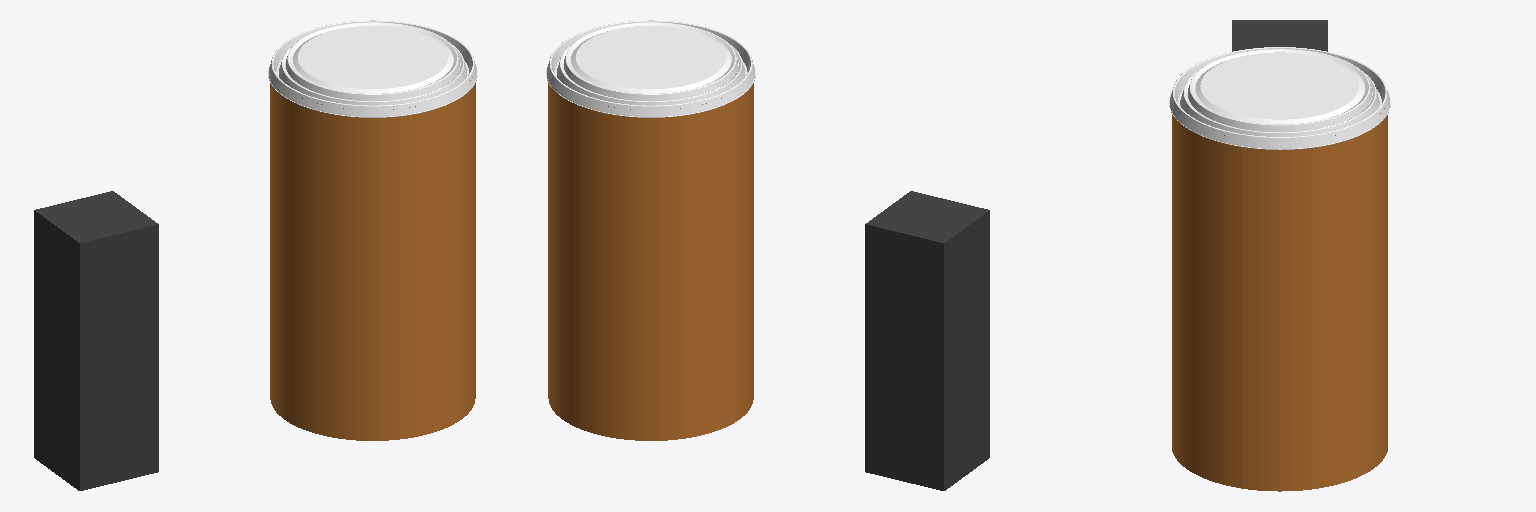
URDF robot description (LWR):
<?xml version="1.0" ?>
<!-- =================================================================================== -->
<!-- |    This document was autogenerated by xacro from seal_twisting_setup.urdf.xacro | -->
<!-- |    EDITING THIS FILE BY HAND IS NOT RECOMMENDED                                 | -->
<!-- =================================================================================== -->
<robot name="LWR" xmlns:controller="http://playerstage.sourceforge.net/gazebo/xmlschema/#controller" xmlns:interface="http://playerstage.sourceforge.net/gazebo/xmlschema/#interface" xmlns:sensor="http://playerstage.sourceforge.net/gazebo/xmlschema/#sensor" xmlns:xacro="http://www.ros.org/wiki/xacro">
  <!--
     Little helper macro to define the inertia matrix needed
     for links.
     -->
  <!-- length is along the y-axis! -->
  <!-- right is either 1 (for right arm) or -1 (for left arm) -->
  <material name="DarkGrey">
    <color rgba="0.3 0.3 0.3 1.0"/>
  </material>
  <material name="Black">
    <color rgba="0 0 0 1.0"/>
  </material>
  <material name="Orange">
    <color rgba="1.0 0.487 0 1.0"/>
  </material>
  <material name="Silver">
    <color rgba="1.0 1.0 1.0 1.0"/>
  </material>
  <material name="Grey">
    <color rgba="0.7 0.7 0.7 1.0"/>
  </material>
  <material name="Blue">
    <color rgba="0.0 0.0 0.8 1.0"/>
  </material>
  <material name="HandGray">
    <color rgba="0.953 0.996 0.694 1.0"/>
  </material>
  <material name="SickBlue">
    <color rgba="0.3058 0.5921 0.7294 1.0"/>
  </material>
  <material name="Wheat">
    <color rgba="0.8039 0.5215 0.2470 1.0"/>
  </material>
  <!--
     Little helper macro to define the inertia matrix needed
     for links.
     -->
  <!-- length is along the y-axis! -->
  <!--   <property name="alpha" value="{M_PI/2}"/> -->
  <!--   <property name="R" value="0.5"/> -->
  <link name="world"/>
  <joint name="world_lwr_arm_base_joint" type="fixed">
    <origin rpy="0 0 0" xyz="-0.7 0 0.6"/>
    <parent link="world"/>
    <child link="calib_lwr_arm_base_link"/>
  </joint>
  <link name="calib_lwr_arm_base_link">
    <inertial>
      <mass value="2.0"/>
      <origin rpy="0 0 0" xyz="0 0 0.055"/>
      <inertia ixx="0.00381666666667" ixy="0" ixz="0" iyy="0.0036" iyz="0" izz="0.00381666666667"/>
    </inertial>
    <visual>
      <origin rpy="0 0 0" xyz="0 0 0"/>
      <geometry>
        <mesh filename="package://kuka_lwr_description/meshes/arm/arm_base.stl"/>
      </geometry>
      <material name="Orange"/>
    </visual>
    <collision>
      <origin rpy="0 0 0" xyz="0 0 0"/>
      <geometry>
        <mesh filename="package://kuka_lwr_description/meshes/arm/convex/arm_base_convex.stl"/>
      </geometry>
    </collision>
  </link>
  <gazebo reference="calib_lwr_arm_base_link">
    <material value="kuka-lwr.material"/>
  </gazebo>
  <joint name="lwr_arm_joint_0" type="revolute">
    <origin rpy="0 0 0" xyz="0 0 0.11"/>
    <axis xyz="0 0 1"/>
    <limit effort="204" lower="-2.96705972839" upper="2.96705972839" velocity="1.91986217719"/>
    <safety_controller k_position="100" k_velocity="2" soft_lower_limit="-2.93215314335" soft_upper_limit="2.93215314335"/>
    <dynamics damping="0.1"/>
    <parent link="calib_lwr_arm_base_link"/>
    <child link="lwr_arm_link_1"/>
  </joint>
  <link name="lwr_arm_link_1">
    <inertial>
      <mass value="2.0"/>
      <origin rpy="0 0 0" xyz="0 0 0.130"/>
      <inertia ixx="0.0136666666667" ixy="0" ixz="0" iyy="0.003" iyz="0" izz="0.0118666666667"/>
    </inertial>
    <visual>
      <origin rpy="0 0 3.14159265359" xyz="0 0 0"/>
      <geometry>
        <mesh filename="package://kuka_lwr_description/meshes/arm/arm_segment_a.stl"/>
      </geometry>
      <material name="Orange"/>
    </visual>
    <collision>
      <origin rpy="0 0 3.14159265359" xyz="0 0 0"/>
      <geometry>
        <mesh filename="package://kuka_lwr_description/meshes/arm/convex/arm_segment_a_convex.stl"/>
      </geometry>
    </collision>
  </link>
  <gazebo reference="lwr_arm_link_1">
    <material value="kuka-lwr.material"/>
  </gazebo>
  <transmission name="lwr_arm_trans_0" type="pr2_mechanism_model/SimpleTransmission">
    <actuator name="lwr_arm_motor_0"/>
    <joint name="lwr_arm_joint_0"/>
    <mechanicalReduction>1.0</mechanicalReduction>
  </transmission>
  <joint name="lwr_arm_joint_1" type="revolute">
    <origin rpy="0 0 0" xyz="0 0 0.20"/>
    <axis xyz="0 -1 0"/>
    <limit effort="306" lower="-2.09439510239" upper="2.09439510239" velocity="1.91986217719"/>
    <safety_controller k_position="100" k_velocity="2" soft_lower_limit="-2.05948851735" soft_upper_limit="2.05948851735"/>
    <dynamics damping="0.1"/>
    <parent link="lwr_arm_link_1"/>
    <child link="lwr_arm_link_2"/>
  </joint>
  <link name="lwr_arm_link_2">
    <inertial>
      <mass value="2.0"/>
      <origin rpy="0 0 0" xyz="0 0.06 0.07"/>
      <inertia ixx="0.0136666666667" ixy="0" ixz="0" iyy="0.003" iyz="0" izz="0.0118666666667"/>
    </inertial>
    <visual>
      <origin rpy="3.14159265359 0 3.14159265359" xyz="0 0 0.2"/>
      <geometry>
        <mesh filename="package://kuka_lwr_description/meshes/arm/arm_segment_b.stl"/>
      </geometry>
      <material name="Orange"/>
    </visual>
    <collision>
      <origin rpy="3.14159265359 0 3.14159265359" xyz="0 0 0.2"/>
      <geometry>
        <mesh filename="package://kuka_lwr_description/meshes/arm/convex/arm_segment_b_convex.stl"/>
      </geometry>
    </collision>
  </link>
  <gazebo reference="lwr_arm_link_2">
    <material value="kuka-lwr.material"/>
  </gazebo>
  <transmission name="lwr_arm_trans_1" type="pr2_mechanism_model/SimpleTransmission">
    <actuator name="lwr_arm_motor_1"/>
    <joint name="lwr_arm_joint_1"/>
    <mechanicalReduction>1.0</mechanicalReduction>
  </transmission>
  <joint name="lwr_arm_joint_2" type="revolute">
    <origin rpy="0 0 0" xyz="0 0 0.20"/>
    <axis xyz="0 0 1"/>
    <limit effort="204" lower="-2.96705972839" upper="2.96705972839" velocity="2.26892802759"/>
    <safety_controller k_position="100" k_velocity="2" soft_lower_limit="-2.93215314335" soft_upper_limit="2.93215314335"/>
    <dynamics damping="0.1"/>
    <parent link="lwr_arm_link_2"/>
    <child link="lwr_arm_link_3"/>
  </joint>
  <link name="lwr_arm_link_3">
    <inertial>
      <mass value="2.0"/>
      <origin rpy="0 0 0" xyz="0 0.06 0.130"/>
      <inertia ixx="0.0136666666667" ixy="0" ixz="0" iyy="0.003" iyz="0" izz="0.0118666666667"/>
    </inertial>
    <visual>
      <origin rpy="0 0 0" xyz="0 0 0"/>
      <geometry>
        <mesh filename="package://kuka_lwr_description/meshes/arm/arm_segment_a.stl"/>
      </geometry>
      <material name="Orange"/>
    </visual>
    <collision>
      <origin rpy="0 0 0" xyz="0 0 0"/>
      <geometry>
        <mesh filename="package://kuka_lwr_description/meshes/arm/convex/arm_segment_a_convex.stl"/>
      </geometry>
    </collision>
  </link>
  <gazebo reference="lwr_arm_link_3">
    <material value="kuka-lwr.material"/>
  </gazebo>
  <transmission name="lwr_arm_trans_2" type="pr2_mechanism_model/SimpleTransmission">
    <actuator name="lwr_arm_motor_2"/>
    <joint name="lwr_arm_joint_2"/>
    <mechanicalReduction>1.0</mechanicalReduction>
  </transmission>
  <joint name="lwr_arm_joint_3" type="revolute">
    <origin rpy="0 0 0" xyz="0 0 0.20"/>
    <axis xyz="0 1 0"/>
    <limit effort="306" lower="-2.09439510239" upper="2.09439510239" velocity="2.26892802759"/>
    <safety_controller k_position="100" k_velocity="2" soft_lower_limit="-2.05948851735" soft_upper_limit="2.05948851735"/>
    <dynamics damping="0.1"/>
    <parent link="lwr_arm_link_3"/>
    <child link="lwr_arm_link_4"/>
  </joint>
  <link name="lwr_arm_link_4">
    <inertial>
      <mass value="2.0"/>
      <origin rpy="0 0 0" xyz="0 -0.06 0.07"/>
      <inertia ixx="0.0136666666667" ixy="0" ixz="0" iyy="0.003" iyz="0" izz="0.0118666666667"/>
    </inertial>
    <visual>
      <origin rpy="0 3.14159265359 3.14159265359" xyz="0 0 0.2"/>
      <geometry>
        <mesh filename="package://kuka_lwr_description/meshes/arm/arm_segment_b.stl"/>
      </geometry>
      <material name="Orange"/>
    </visual>
    <collision>
      <origin rpy="0 3.14159265359 3.14159265359" xyz="0 0 0.2"/>
      <geometry>
        <mesh filename="package://kuka_lwr_description/meshes/arm/convex/arm_segment_b_convex.stl"/>
      </geometry>
    </collision>
  </link>
  <gazebo reference="lwr_arm_link_4">
    <material value="kuka-lwr.material"/>
  </gazebo>
  <transmission name="lwr_arm_trans_3" type="pr2_mechanism_model/SimpleTransmission">
    <actuator name="lwr_arm_motor_3"/>
    <joint name="lwr_arm_joint_3"/>
    <mechanicalReduction>1.0</mechanicalReduction>
  </transmission>
  <joint name="lwr_arm_joint_4" type="revolute">
    <origin rpy="0 0 0" xyz="0 0 0.20"/>
    <axis xyz="0 0 1"/>
    <limit effort="204" lower="-2.96705972839" upper="2.96705972839" velocity="2.26892802759"/>
    <safety_controller k_position="100" k_velocity="2" soft_lower_limit="-2.93215314335" soft_upper_limit="2.93215314335"/>
    <dynamics damping="0.1"/>
    <parent link="lwr_arm_link_4"/>
    <child link="lwr_arm_link_5"/>
  </joint>
  <link name="lwr_arm_link_5">
    <inertial>
      <mass value="2.0"/>
      <origin rpy="0 0 0" xyz="0 0 0.124"/>
      <inertia ixx="0.0126506666667" ixy="0" ixz="0" iyy="0.003" iyz="0" izz="0.0108506666667"/>
    </inertial>
    <visual>
      <origin rpy="0 0 3.14159265359" xyz="0 0 0"/>
      <geometry name="lwr_arm_5_geom">
        <mesh filename="package://kuka_lwr_description/meshes/arm/arm_segment_last.stl"/>
      </geometry>
      <material name="Orange"/>
    </visual>
    <collision>
      <origin rpy="0 0 3.14159265359" xyz="0 0 0"/>
      <geometry>
        <mesh filename="package://kuka_lwr_description/meshes/arm/convex/arm_segment_last_convex.stl"/>
      </geometry>
    </collision>
  </link>
  <gazebo reference="lwr_arm_link_5">
    <material value="kuka-lwr.material"/>
  </gazebo>
  <transmission name="lwr_arm_trans_4" type="pr2_mechanism_model/SimpleTransmission">
    <actuator name="lwr_arm_motor_4"/>
    <joint name="lwr_arm_joint_4"/>
    <mechanicalReduction>1.0</mechanicalReduction>
  </transmission>
  <joint name="lwr_arm_joint_5" type="revolute">
    <origin rpy="0 0 0" xyz="0 0 0.19"/>
    <axis xyz="0 -1 0"/>
    <limit effort="306" lower="-2.09439510239" upper="2.09439510239" velocity="3.14159265359"/>
    <safety_controller k_position="100" k_velocity="2" soft_lower_limit="-2.05948851735" soft_upper_limit="2.05948851735"/>
    <dynamics damping="0.1"/>
    <parent link="lwr_arm_link_5"/>
    <child link="lwr_arm_link_6"/>
  </joint>
  <link name="lwr_arm_link_6">
    <inertial>
      <mass value="2.0"/>
      <origin rpy="0 0 0" xyz="0 0 0.0625"/>
      <inertia ixx="0.00520833333333" ixy="0" ixz="0" iyy="0.00520833333333" iyz="0" izz="0.00520833333333"/>
    </inertial>
    <visual>
      <origin rpy="0 0 3.14159265359" xyz="0 0 0"/>
      <geometry>
        <mesh filename="package://kuka_lwr_description/meshes/arm/arm_wrist.stl"/>
      </geometry>
      <material name="Grey"/>
    </visual>
    <collision>
      <origin rpy="0 0 3.14159265359" xyz="0 0 0"/>
      <geometry>
        <mesh filename="package://kuka_lwr_description/meshes/arm/convex/arm_wrist_convex.stl"/>
      </geometry>
    </collision>
  </link>
  <gazebo reference="lwr_arm_link_6">
    <material value="kuka-lwr.material"/>
  </gazebo>
  <transmission name="lwr_arm_trans_5" type="pr2_mechanism_model/SimpleTransmission">
    <actuator name="lwr_arm_motor_5"/>
    <joint name="lwr_arm_joint_5"/>
    <mechanicalReduction>1.0</mechanicalReduction>
  </transmission>
  <joint name="lwr_arm_joint_6" type="revolute">
    <origin rpy="0 0 0" xyz="0 0 0.078"/>
    <axis xyz="0 0 1"/>
    <limit effort="204" lower="-2.96705972839" upper="2.96705972839" velocity="3.14159265359"/>
    <safety_controller k_position="100" k_velocity="2" soft_lower_limit="-2.93215314335" soft_upper_limit="2.93215314335"/>
    <dynamics damping="0.1"/>
    <parent link="lwr_arm_link_6"/>
    <child link="lwr_arm_link_7"/>
  </joint>
  <link name="lwr_arm_link_7">
    <inertial>
      <mass value="2.0"/>
      <origin xyz="0 0 0"/>
      <inertia ixx="0.333333333333" ixy="0" ixz="0" iyy="0.333333333333" iyz="0" izz="0.333333333333"/>
    </inertial>
    <visual>
      <origin rpy="0 0 2.35619449019" xyz="0 0 0"/>
      <geometry>
        <mesh filename="package://kuka_lwr_description/meshes/arm/arm_flanche.stl"/>
      </geometry>
      <material name="Black"/>
    </visual>
    <collision>
      <origin rpy="0 0 2.35619449019" xyz="0 0 0"/>
      <geometry>
        <mesh filename="package://kuka_lwr_description/meshes/arm/convex/arm_flanche_convex.stl"/>
      </geometry>
    </collision>
  </link>
  <gazebo reference="lwr_arm_link_7">
    <material value="kuka-lwr.material"/>
  </gazebo>
  <transmission name="lwr_arm_trans_6" type="pr2_mechanism_model/SimpleTransmission">
    <actuator name="lwr_arm_motor_6"/>
    <joint name="lwr_arm_joint_6"/>
    <mechanicalReduction>1.0</mechanicalReduction>
  </transmission>
  <joint name="lwr_arm_hand_fixed_joint" type="fixed">
    <origin rpy="1.57079632679 0 5.49778714378" xyz="-0.075 -0.075 -0.094"/>
    <parent link="lwr_arm_link_7"/>
    <child link="lwr_arm_hand_link"/>
  </joint>
  <link name="lwr_arm_hand_link"/>
  <!--  Stands  -->
  <joint name="stand_1" type="fixed">
    <parent link="world"/>
    <child link="stand_1"/>
    <origin rpy="0 0 0" xyz="-0.7 0 0.6"/>
  </joint>
  <link name="stand_1">
    <visual>
      <origin rpy="0 0 0" xyz="0 0 -0.3"/>
      <geometry>
        <box size=".2 .2 0.6"/>
      </geometry>
      <material name="DarkGrey"/>
    </visual>
  </link>
  <!-- Drums   -->
  <joint name="drum" type="fixed">
    <parent link="world"/>
    <child link="drum"/>
    <origin xyz="0 0 0"/>
  </joint>
  <link name="drum">
    <visual>
      <origin rpy="0 0 0" xyz="0 0 0"/>
      <geometry>
        <mesh filename="package://kuka_lwr_description/meshes/bayer/large_drum.stl" scale="0.001 0.001 0.001"/>
      </geometry>
      <material name="Wheat"/>
    </visual>
  </link>
  <joint name="lid" type="fixed">
    <parent link="drum"/>
    <child link="lid"/>
    <origin xyz="0 0 0.8"/>
  </joint>
  <!--   TODO @Cristian check the hight of the lid in the CAD -->
  <link name="lid">
    <visual>
      <origin rpy="0 0 0" xyz="0 0 0.01"/>
      <geometry>
        <mesh filename="package://kuka_lwr_description/meshes/bayer/large_drum_lid.stl" scale="0.001 0.001 0.001"/>
      </geometry>
      <material name="Silver"/>
    </visual>
  </link>
</robot>

--- What the picture shows (computed from the rendered views, not written in the file) ---
Views: 3 orthographic renders of the robot side by side, from view 1: azimuth 30°, elevation 25°; view 2: azimuth 150°, elevation 25°; view 3: azimuth 270°, elevation 25°.
Model LWR with 13 links and 12 joints (7 revolute, 5 fixed), rooted at world, posed every joint at zero.
Links seen in each view (by area): view 1: drum, stand_1, lid; view 2: drum, stand_1, lid; view 3: drum, lid, stand_1.
Link boxes in pixels (x1,y1,x2,y2): drum: [270, 77, 475, 440]; stand_1: [34, 191, 158, 490]; lid: [268, 20, 477, 117]; drum: [548, 77, 753, 440]; stand_1: [865, 191, 989, 490]; lid: [546, 20, 755, 117]; drum: [1172, 108, 1387, 491]; lid: [1169, 47, 1390, 149]; stand_1: [1232, 20, 1327, 51].
Size in the robot's own frame: 1.03 by 0.46 by 0.823 metres.
2 mesh visuals loaded from 8 distinct referenced files (2 binary STL); not drawn: 8 (reference not matched to a file when rendering).